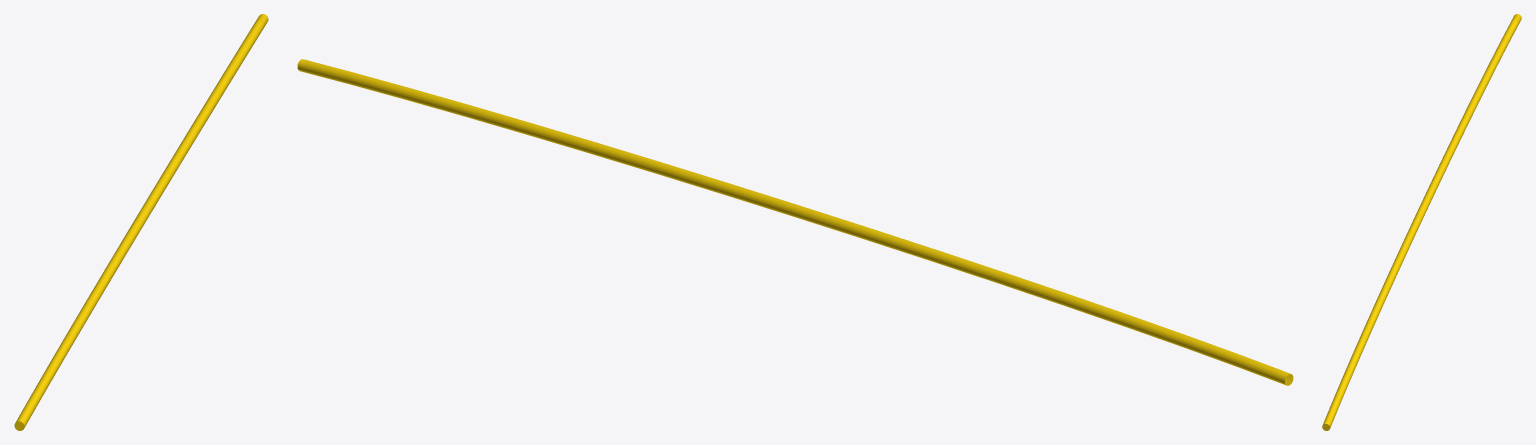
The model's file is Event_420107950_track_20.fbx.
The picture shows the model from 3 angles, left to right: view 1: azimuth 90°, elevation 25°; view 2: azimuth 150°, elevation 25°; view 3: azimuth 270°, elevation 25°; orthographic projection. The views are drawn at different scales.
Parts seen in each view (by area): view 1: Model; view 2: Model; view 3: Model.
Boxes of the visible parts, x1,y1,x2,y2 form: Model: (14, 14, 268, 430); Model: (297, 59, 1293, 385); Model: (1322, 14, 1521, 430).
Size of the model in its own units: 4.19 by 0.2797 by 0.9672.
